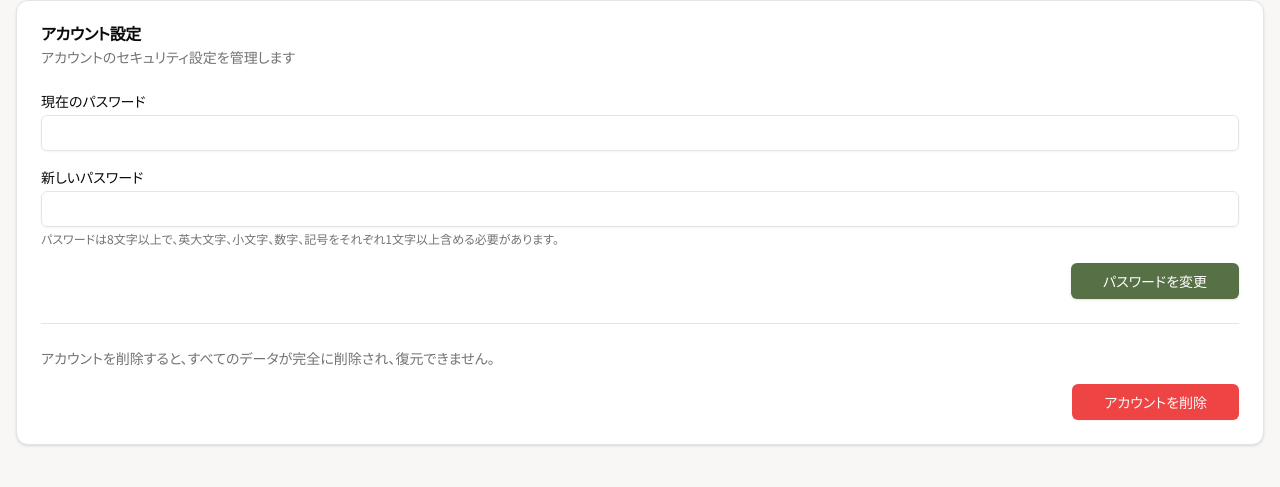
Scenario: AccountSettingsPage › 新しいパスワードが要件を満たさない場合にバリデーションエラーが表示される
Type "oldpass123!A" into the password field labelled "現在のパスワード". click: (640, 133)
box: x1=41 y1=115 x2=1239 y2=151
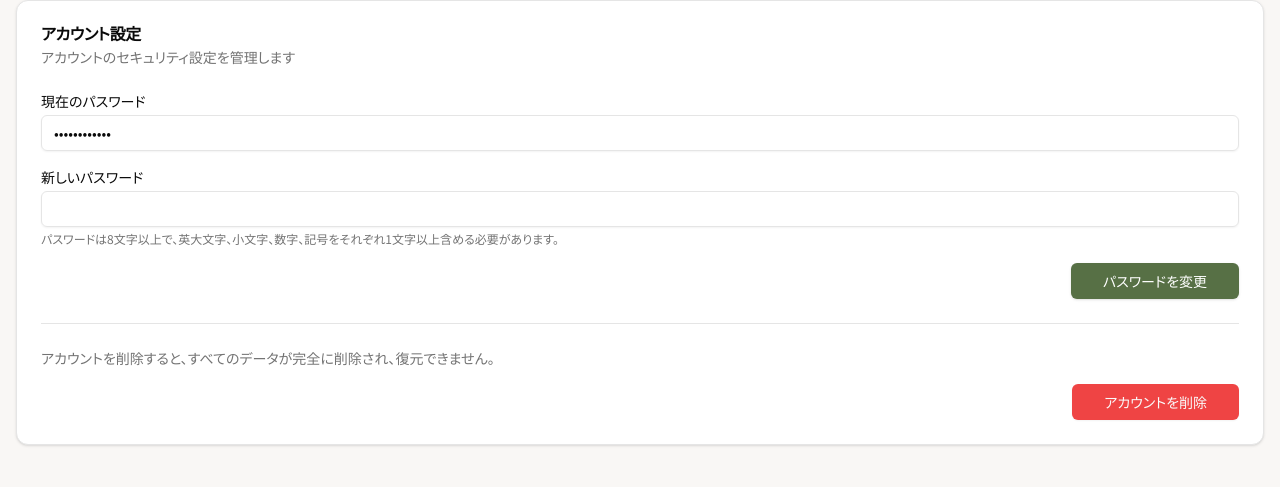
Type "abcdefgh" into the password field labelled "新しいパスワード". click: (640, 209)
box: x1=41 y1=191 x2=1239 y2=227
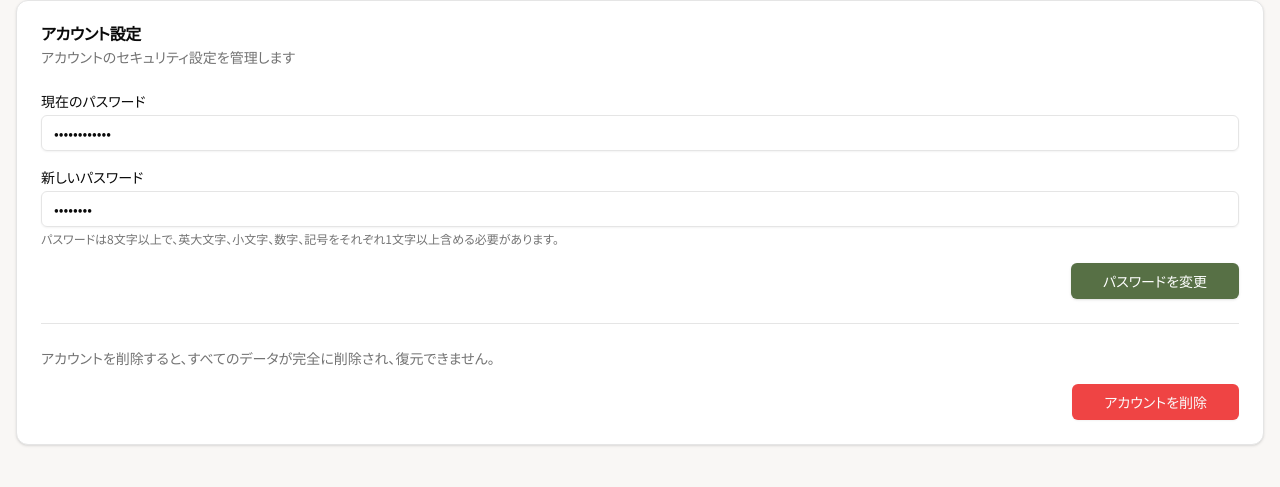
Click the button "パスワードを変更". click: (1155, 281)
box: x1=1071 y1=263 x2=1239 y2=299
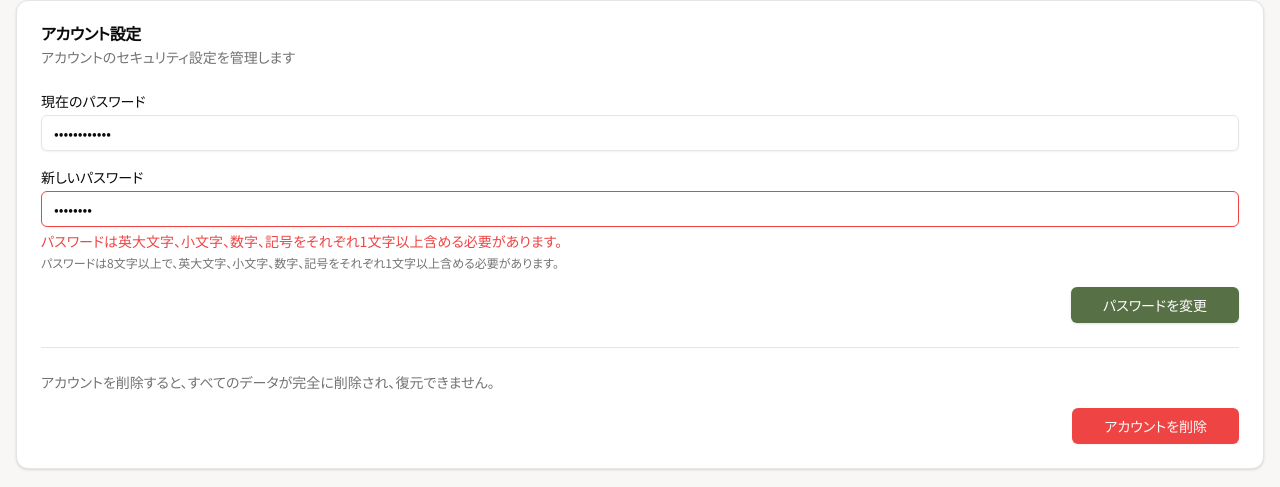
Check: the text "パスワードは英大文字、小文字、数字、記号をそれぞれ1文字以上含める必要があります。" is shown, box x1=41 y1=231 x2=562 y2=251
